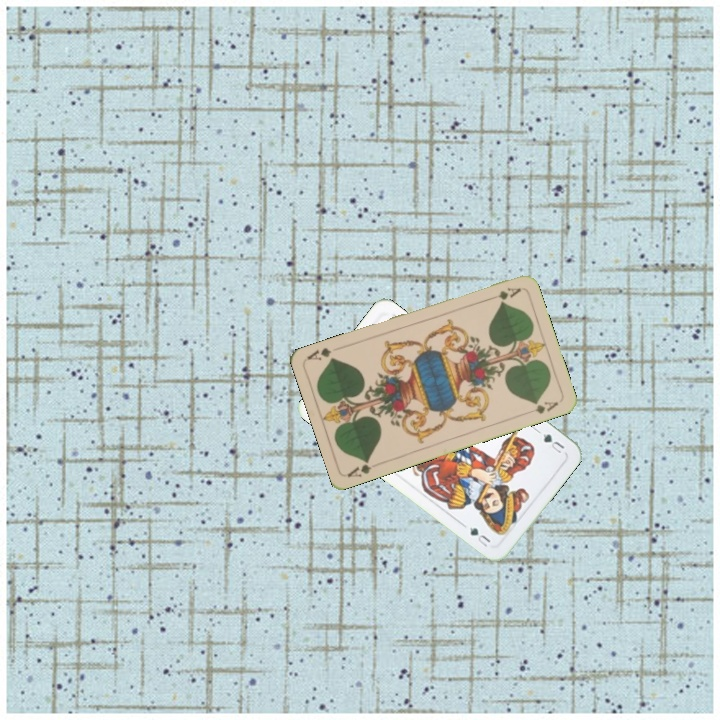GA: (483, 283, 523, 303), (344, 455, 374, 480)
GU: (533, 426, 567, 456)
